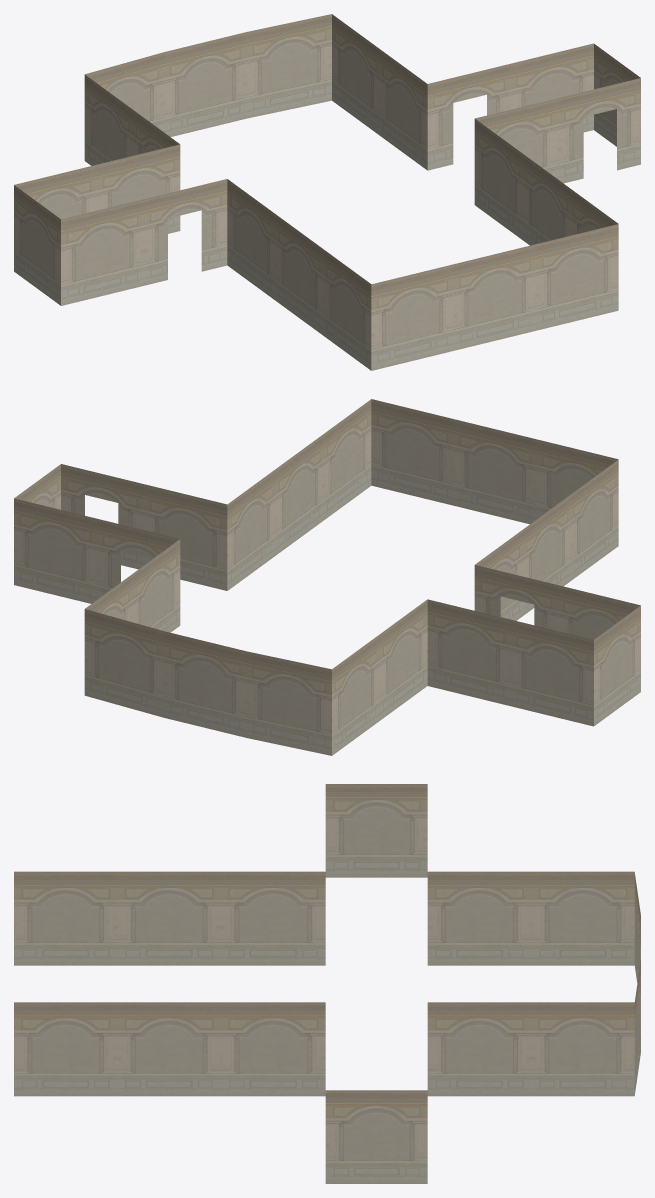
The model's file is Homeworld_Interior_Fd_Room_C_Filling_01_Vo.fbx.
3 renders of one model, top to bottom at view 1: azimuth 30°, elevation 25°; view 2: azimuth 150°, elevation 25°; view 3: azimuth 270°, elevation 25°, orthographic. The views are drawn at different scales.
Parts seen in each view (by area): view 1: Homeworld_Interior_Fd_Room_C_Filling_01_Vo; view 2: Homeworld_Interior_Fd_Room_C_Filling_01_Vo; view 3: Homeworld_Interior_Fd_Room_C_Filling_01_Vo.
Part boxes in pixels (bbox=[...]): Homeworld_Interior_Fd_Room_C_Filling_01_Vo: bbox=[14, 14, 640, 370]; Homeworld_Interior_Fd_Room_C_Filling_01_Vo: bbox=[14, 399, 640, 755]; Homeworld_Interior_Fd_Room_C_Filling_01_Vo: bbox=[14, 784, 640, 1183].
Size of the model in its own units: 34.88 by 4.98 by 30.19.
